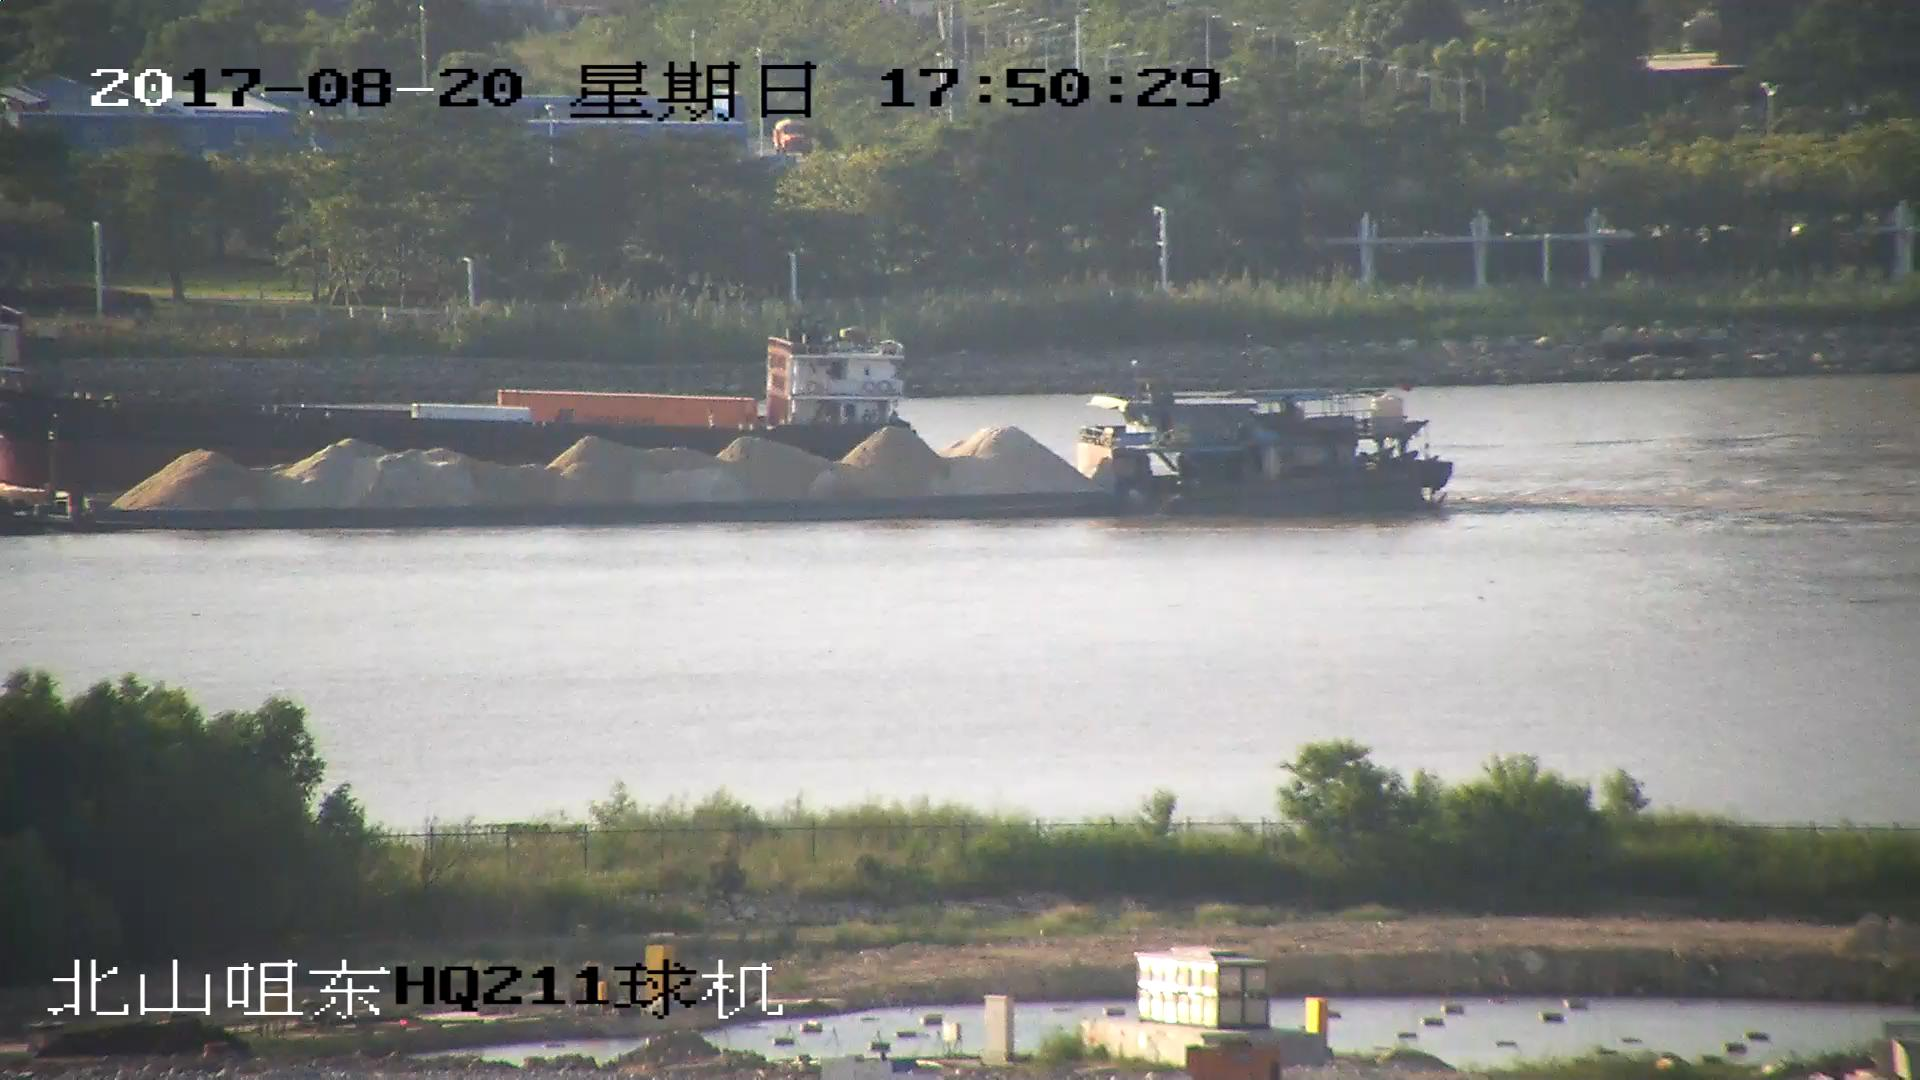general cargo ship: (1, 310, 916, 476)
ore carrier: (1, 386, 1446, 527)
